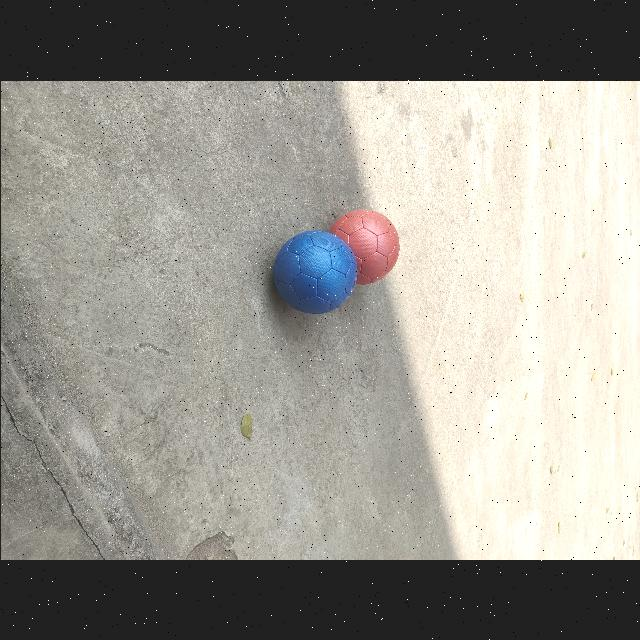B: (271, 230, 357, 313)
R: (328, 208, 398, 284)
